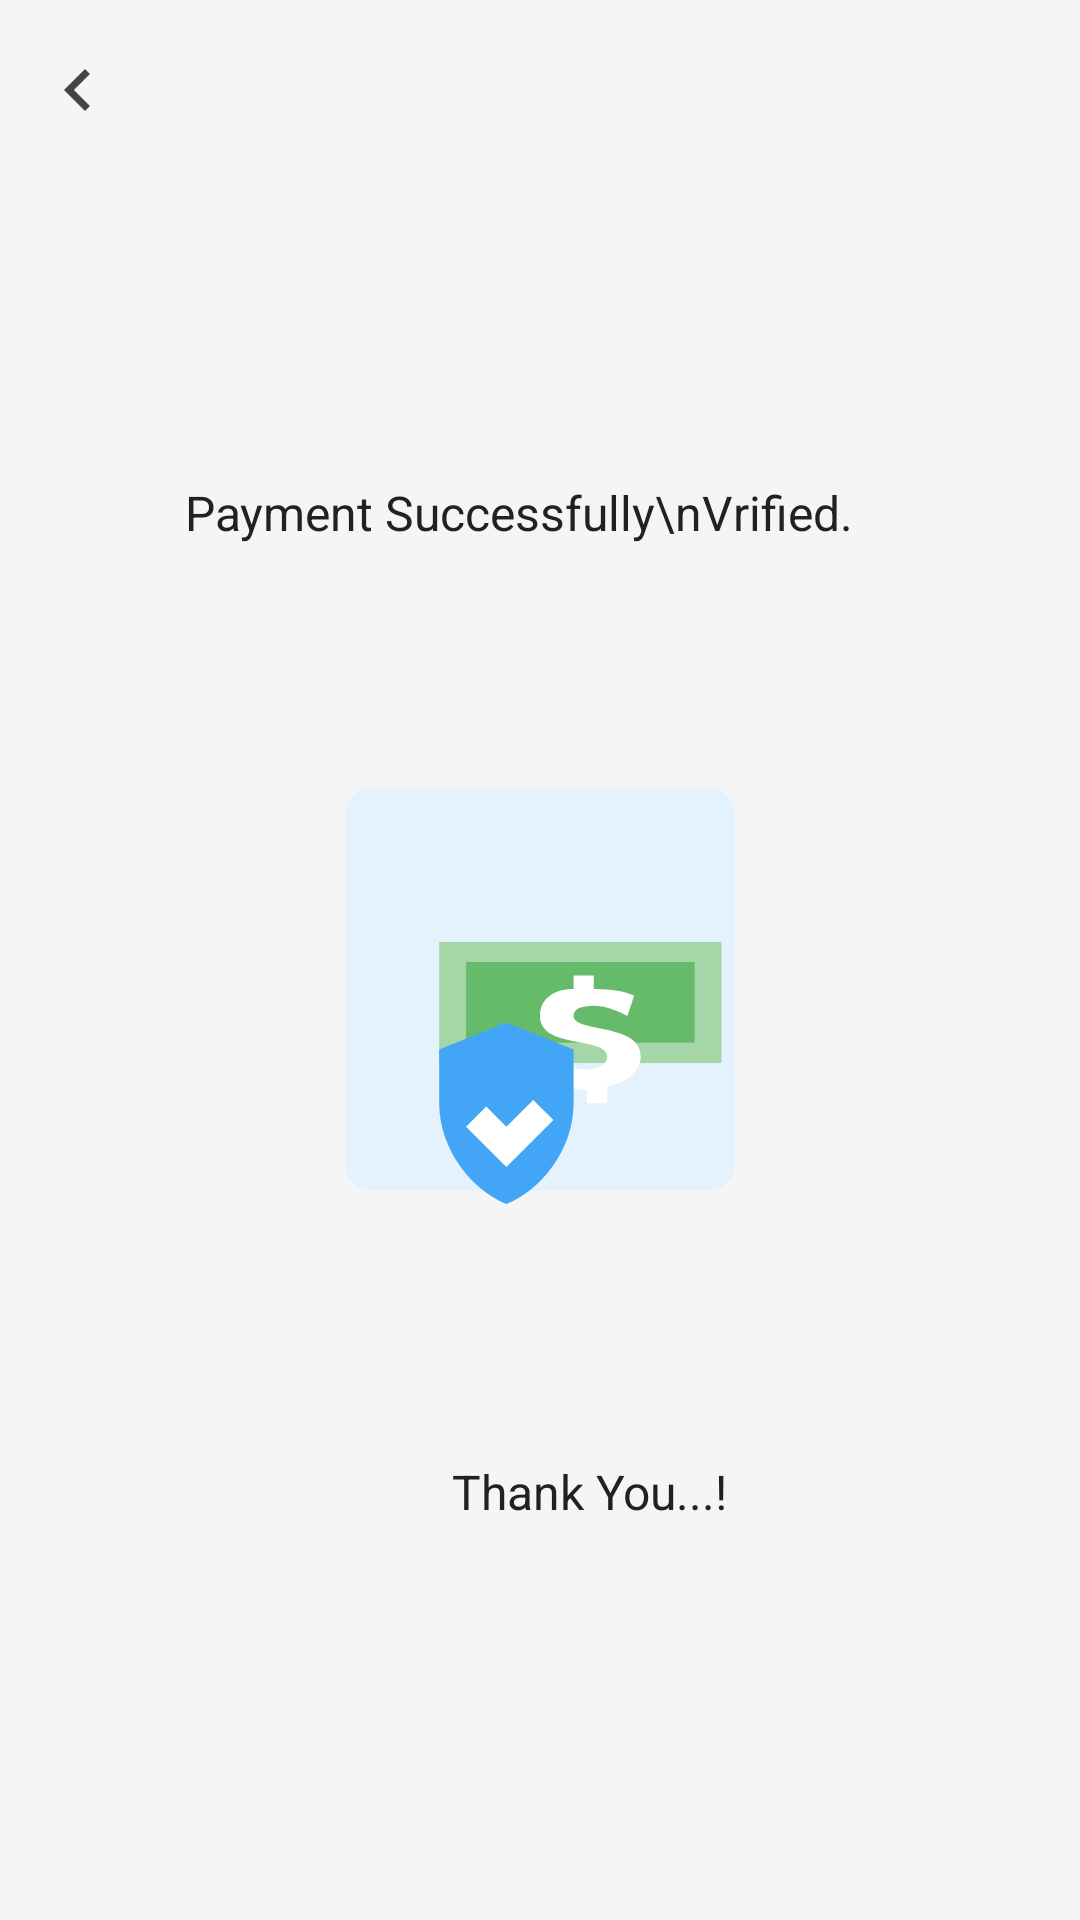

Where to tap for icons on this 1080 × 1920 app screen, as [x,y]:
Back: [77,90]
